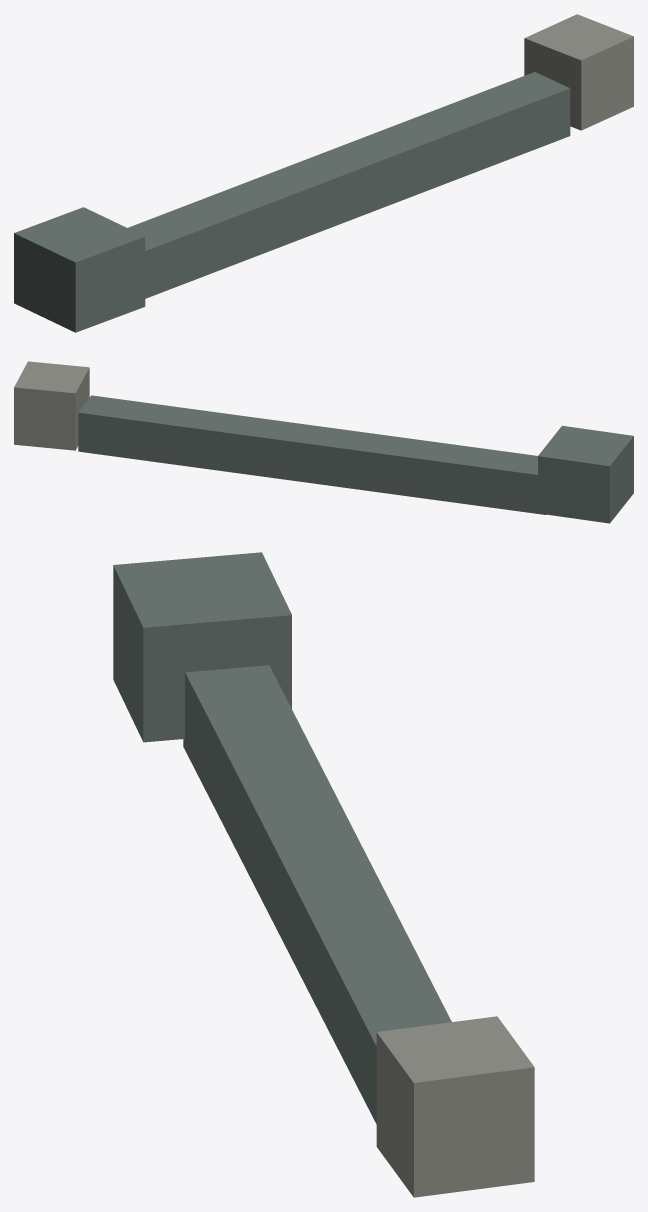
Rendered from SM_Farola_v4_LOD1.fbx.
3 views of the same model, one above another, from view 1: azimuth 30°, elevation 25°; view 2: azimuth 150°, elevation 25°; view 3: azimuth 270°, elevation 25° (orthographic). The views are drawn at different scales.
Visible parts, largest first — view 1: SM_urbano_v9_LOD1; view 2: SM_urbano_v9_LOD1; view 3: SM_urbano_v9_LOD1.
Boxes of the visible parts, left/top/right/bottom form: SM_urbano_v9_LOD1: left=14, top=14, right=633, bottom=332; SM_urbano_v9_LOD1: left=14, top=361, right=633, bottom=523; SM_urbano_v9_LOD1: left=113, top=552, right=534, bottom=1197.
Size of the model in its own units: 4.97 by 0.55 by 1.67.
